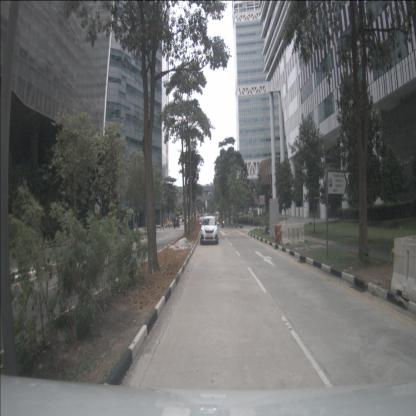barrier: (390, 238, 416, 304), (280, 222, 305, 247), (274, 223, 297, 245)
